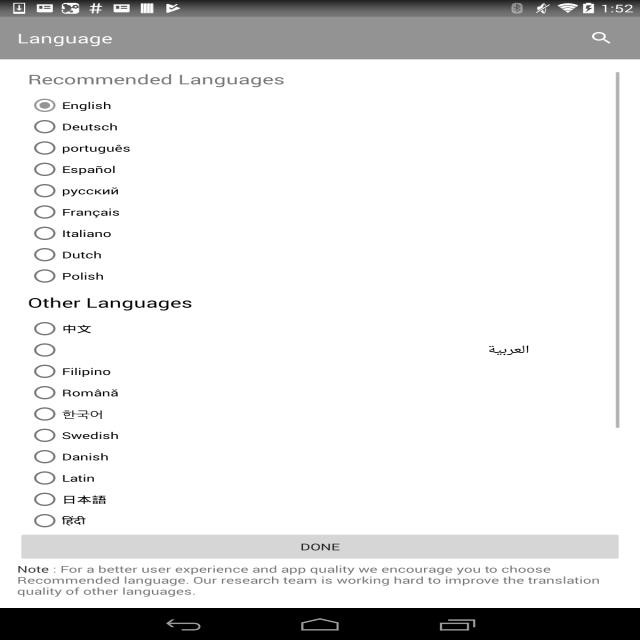Button: (17, 530, 623, 562)
RadioButton: (28, 137, 623, 159), (28, 201, 623, 223), (28, 265, 623, 287), (28, 339, 623, 361), (28, 403, 623, 425), (28, 467, 623, 489), (28, 95, 623, 116), (28, 116, 623, 137), (28, 159, 623, 180), (28, 180, 623, 201), (28, 223, 623, 244), (28, 244, 623, 265), (28, 318, 623, 339), (28, 361, 623, 382), (28, 382, 623, 403), (28, 425, 623, 446), (28, 446, 623, 467), (28, 489, 623, 510), (28, 510, 623, 531)
TextView: (17, 563, 623, 597), (28, 70, 623, 88), (28, 294, 623, 312), (572, 22, 631, 54), (17, 29, 113, 47)
